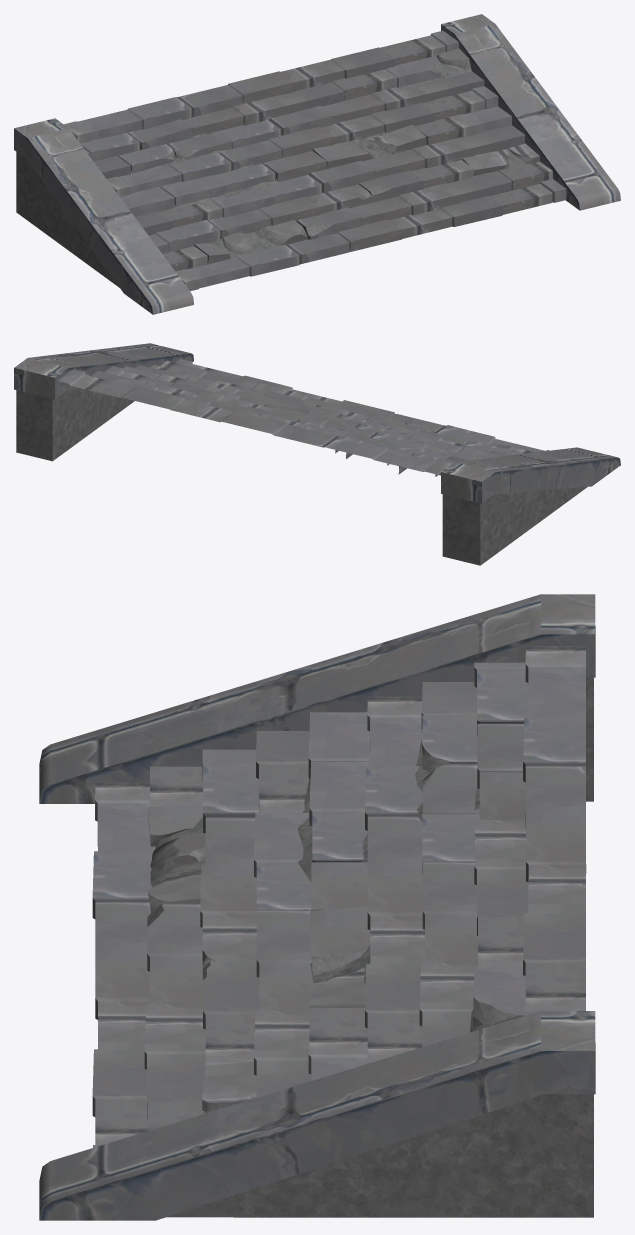
Rendered from SM_Alt_Sta_04AM.fbx.
3 views of the same model, one above another, from view 1: azimuth 30°, elevation 25°; view 2: azimuth 150°, elevation 25°; view 3: azimuth 270°, elevation 25° (orthographic). The views are drawn at different scales.
Visible parts, largest first — view 1: SM_Alt_Sta_04AM.mo; view 2: SM_Alt_Sta_04AM.mo; view 3: SM_Alt_Sta_04AM.mo.
Part boxes in pixels (bbox=[...]): SM_Alt_Sta_04AM.mo: bbox=[14, 14, 620, 314]; SM_Alt_Sta_04AM.mo: bbox=[14, 343, 620, 565]; SM_Alt_Sta_04AM.mo: bbox=[39, 594, 595, 1220].
Bounding box in the file's own units: 13.38 × 2.32 × 6.89.
